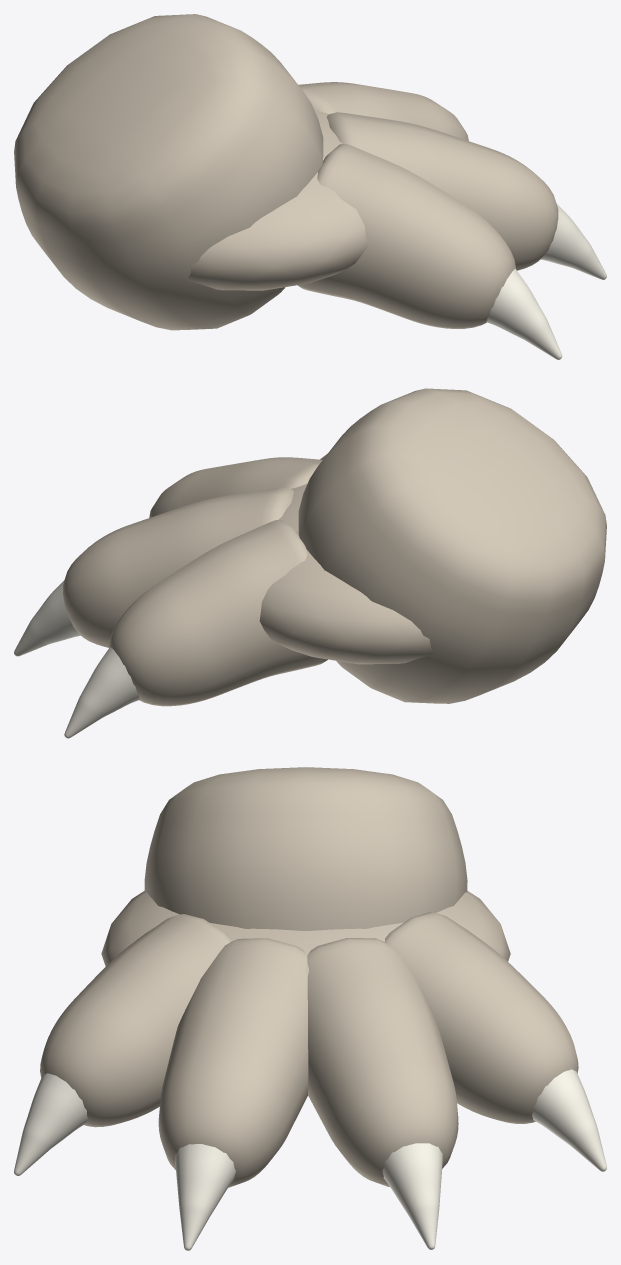
Rendered from creature.crocfoot.glb.
The picture shows the model from 3 angles, top to bottom: view 1: azimuth 30°, elevation 25°; view 2: azimuth 150°, elevation 25°; view 3: azimuth 270°, elevation 25°; orthographic projection. The views are drawn at different scales.
Visible parts, largest first — view 1: Skin, Claw; view 2: Skin, Claw; view 3: Skin, Claw.
Boxes of the visible parts, left/top/right/bottom form: Skin: left=14, top=14, right=558, bottom=330; Claw: left=486, top=204, right=606, bottom=359; Skin: left=63, top=388, right=606, bottom=706; Claw: left=14, top=580, right=139, bottom=738; Skin: left=40, top=767, right=578, bottom=1187; Claw: left=14, top=1069, right=606, bottom=1250.
Size of the model in its own units: 0.4566 by 0.2467 by 0.4345.
